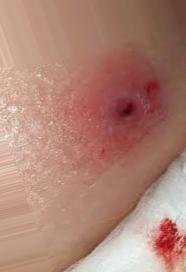Spider: (37, 39, 181, 175)
